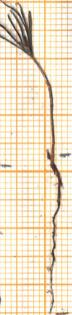flower: (0, 0, 36, 61)
root: (44, 155, 65, 314)
stem: (34, 60, 58, 154)
